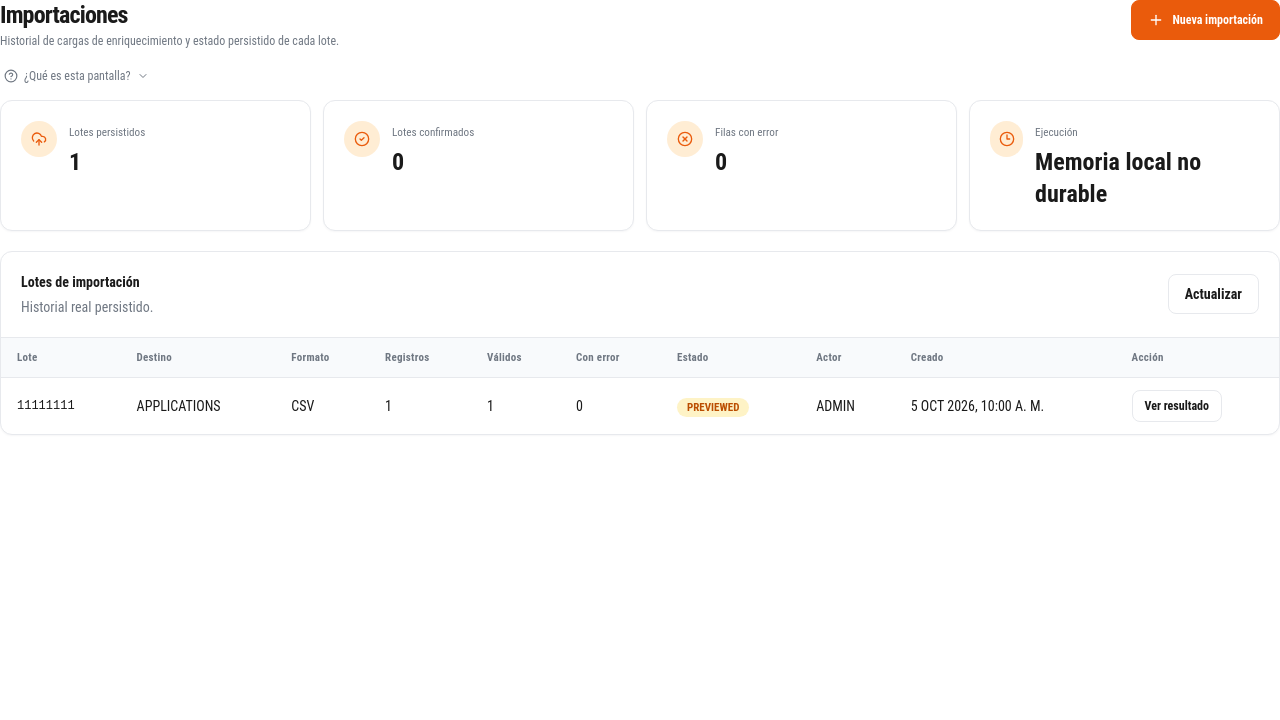
Test: ImportsWorkspace › preserves read-only mode through every wizard action
Click the button "Nueva importación": (1206, 20) [1132,0,1279,40]
(page scrolled)
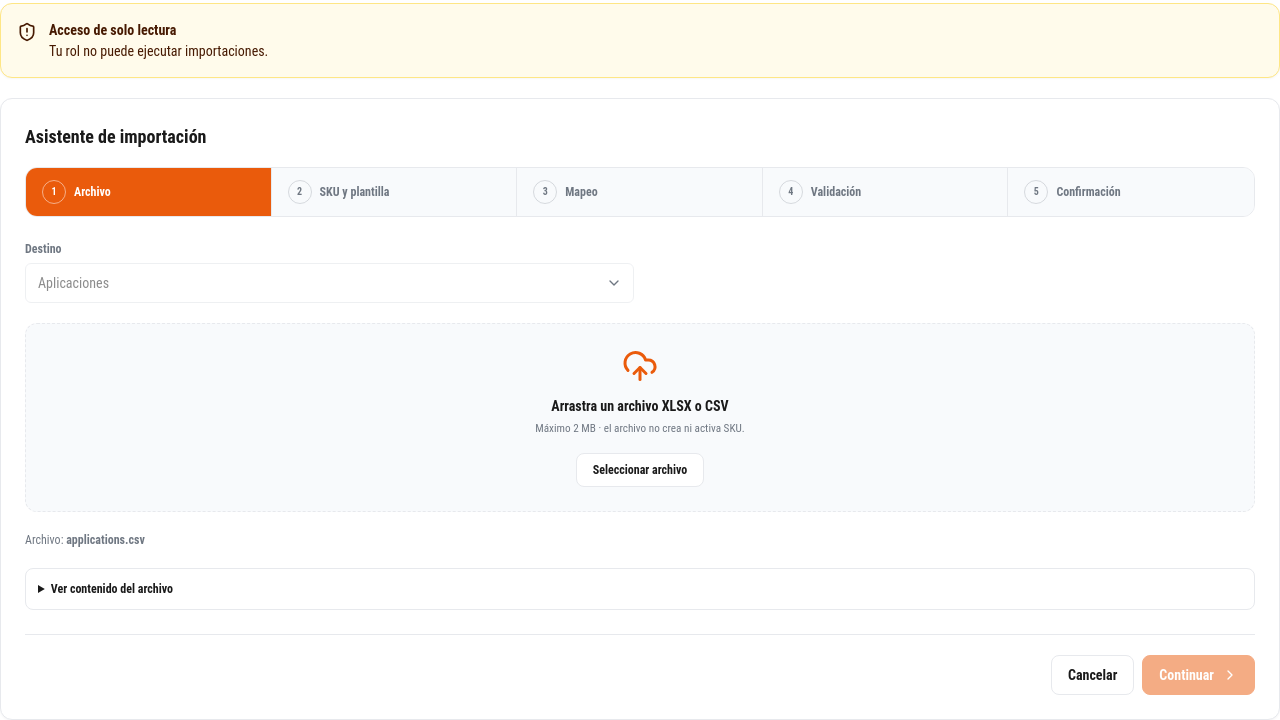
Now the heading "Acceso de solo lectura" is shown, box [49,22,176,38]
Now the button "Continuar" is disabled, box [1142,655,1255,695]
